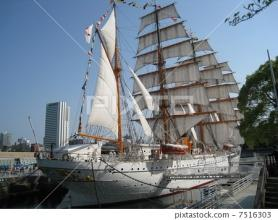fanchuan: (32, 2, 256, 197)
